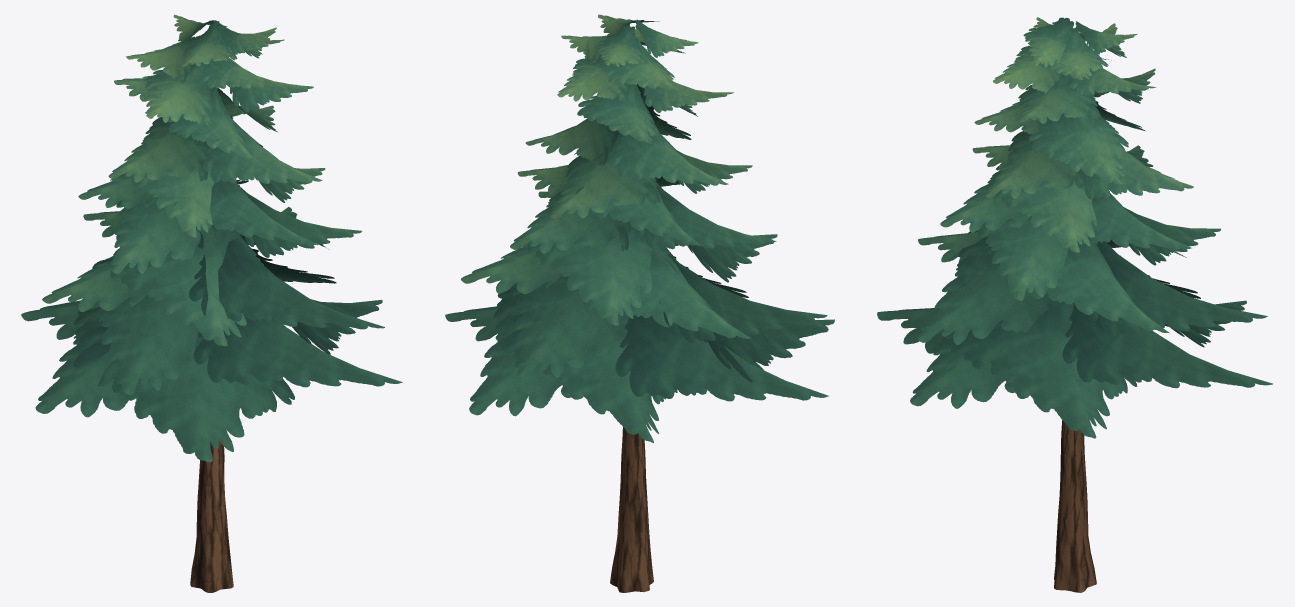
Rendered from tree_pine_b.glb.
3 renders of one model, left to right at view 1: azimuth 30°, elevation 25°; view 2: azimuth 150°, elevation 25°; view 3: azimuth 270°, elevation 25°, orthographic.
Visible parts, largest first — view 1: Canopy, tree_pine_b; view 2: Canopy, tree_pine_b; view 3: Canopy, tree_pine_b.
Boxes of the visible parts, x1,y1,x2,y2 form: Canopy: [21, 14, 402, 462]; tree_pine_b: [190, 439, 233, 592]; Canopy: [445, 14, 834, 442]; tree_pine_b: [610, 427, 653, 592]; Canopy: [877, 17, 1272, 438]; tree_pine_b: [1054, 420, 1096, 592].
Size of the model in its own units: 1.38 by 1.97 by 1.29.
2 materials, 2 textured.
